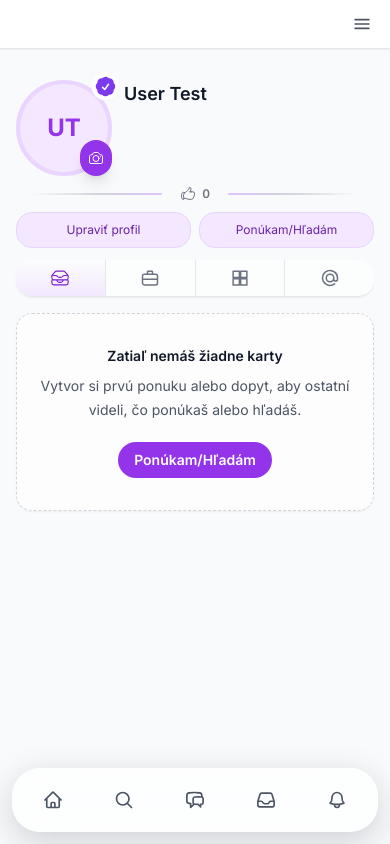
Test: Dashboard na mobile: scroll úpravy profilu sa do profilu neprenáša › zrušenie zo scrollnutého formulára: profil sa otvorí v NOVOM <main> od začiatku
What coordinates should you click on to do the following:
click the button "Upraviť profil"
I would click on:
 (104, 230)
Its box is [16,212,191,248].
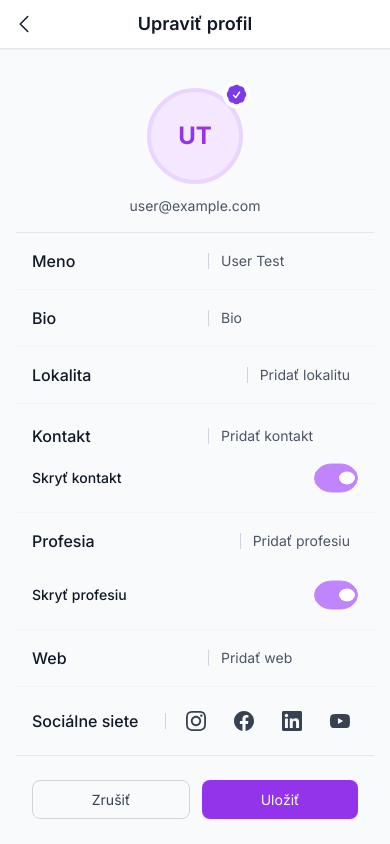
Expected: the button "Uložiť" is shown, [202,780,358,819]
What coordinates should you click on to do the following:
click the button "Zrušiť"
I would click on:
 (111, 800)
Its box is [32,780,190,819].
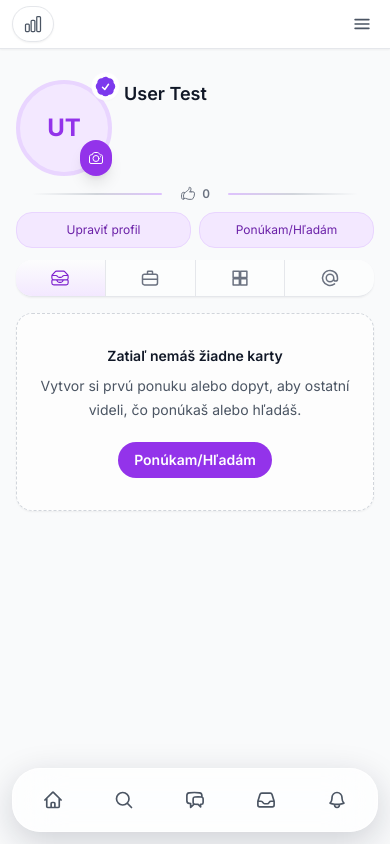
Expected: the button "Uložiť" is gone
